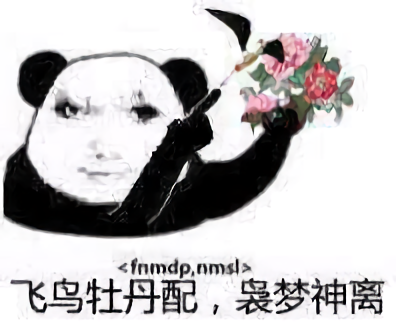dragon: (52, 90, 167, 185)
